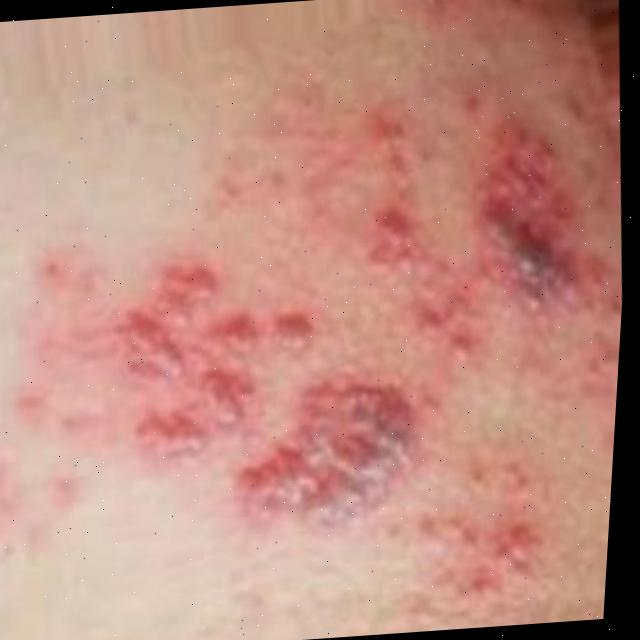Shingles: (0, 97, 627, 601)
